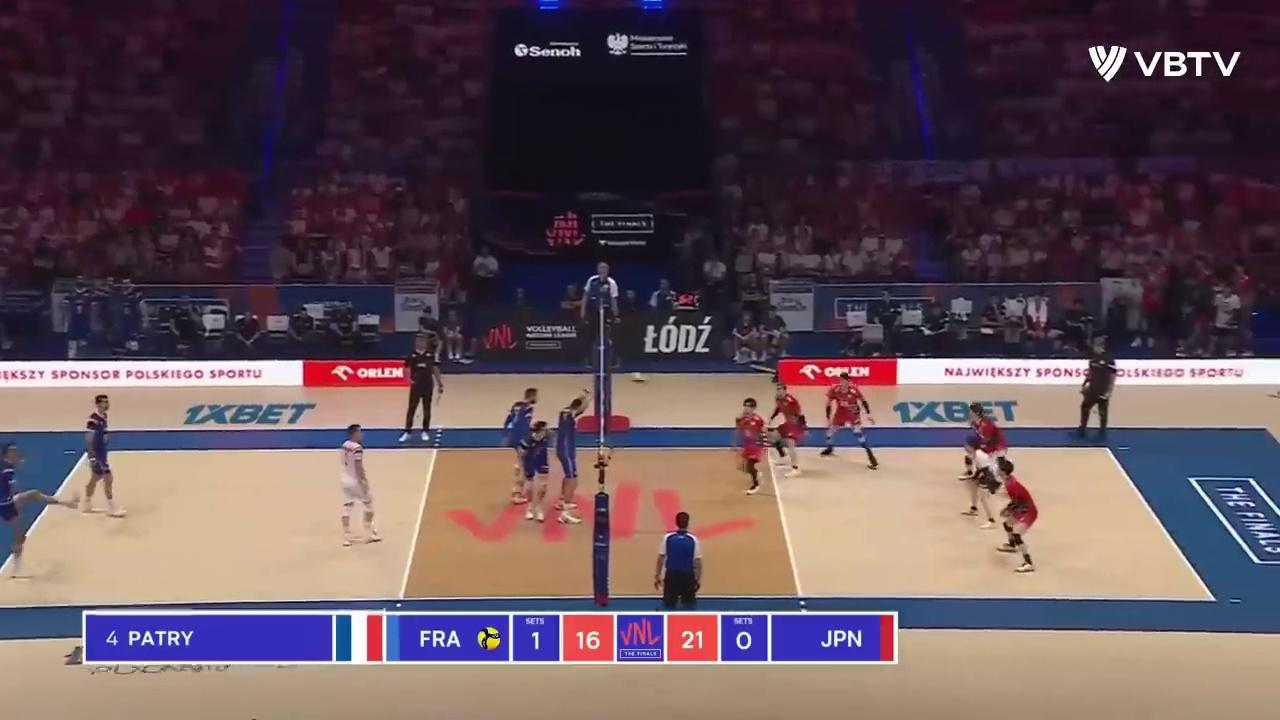ball: (631, 372, 647, 385)
